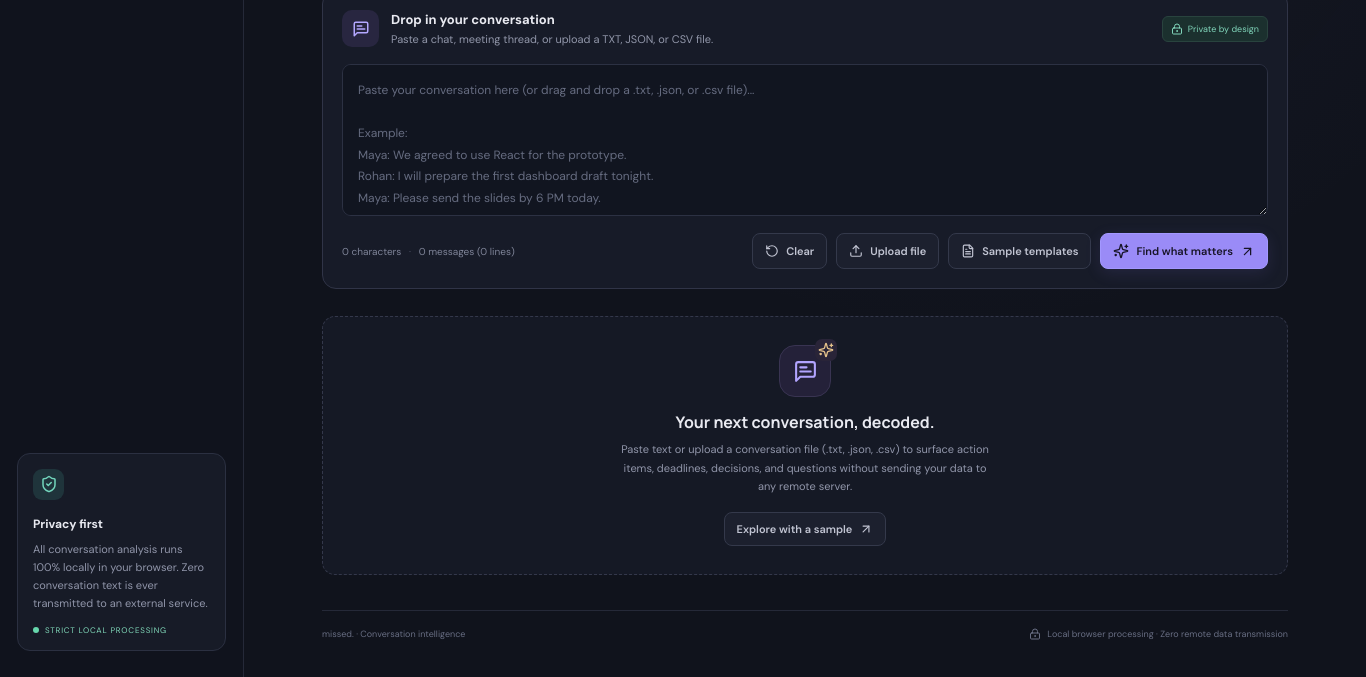
Test: UI State & Input Synchronization Tests › renders sample template and runs analysis with source excerpts
(page scrolled)
# Click "Explore with a sample" in empty prompt
Click the button "Explore with a sample". click: (805, 529)
box: [724, 512, 886, 546]
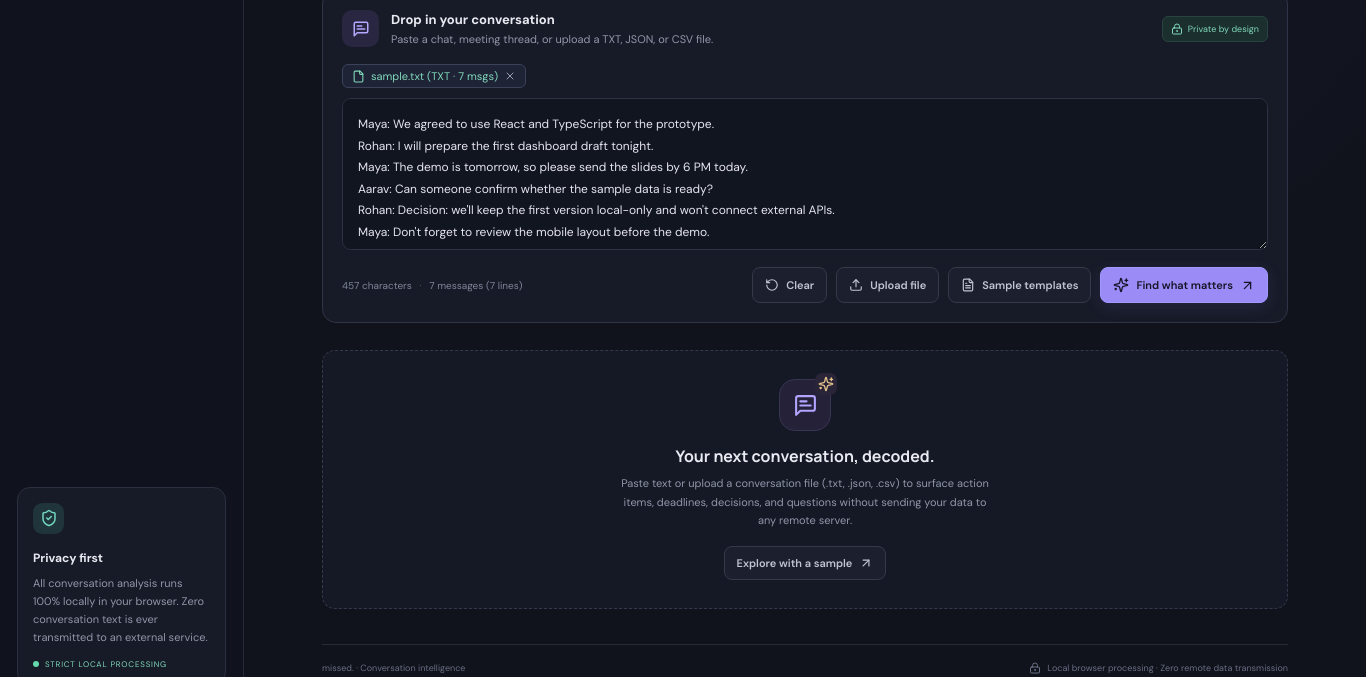
# Click "Find what matters"
Click the button "Find what matters". click: (1184, 285)
box: [1100, 267, 1268, 303]
(page scrolled)
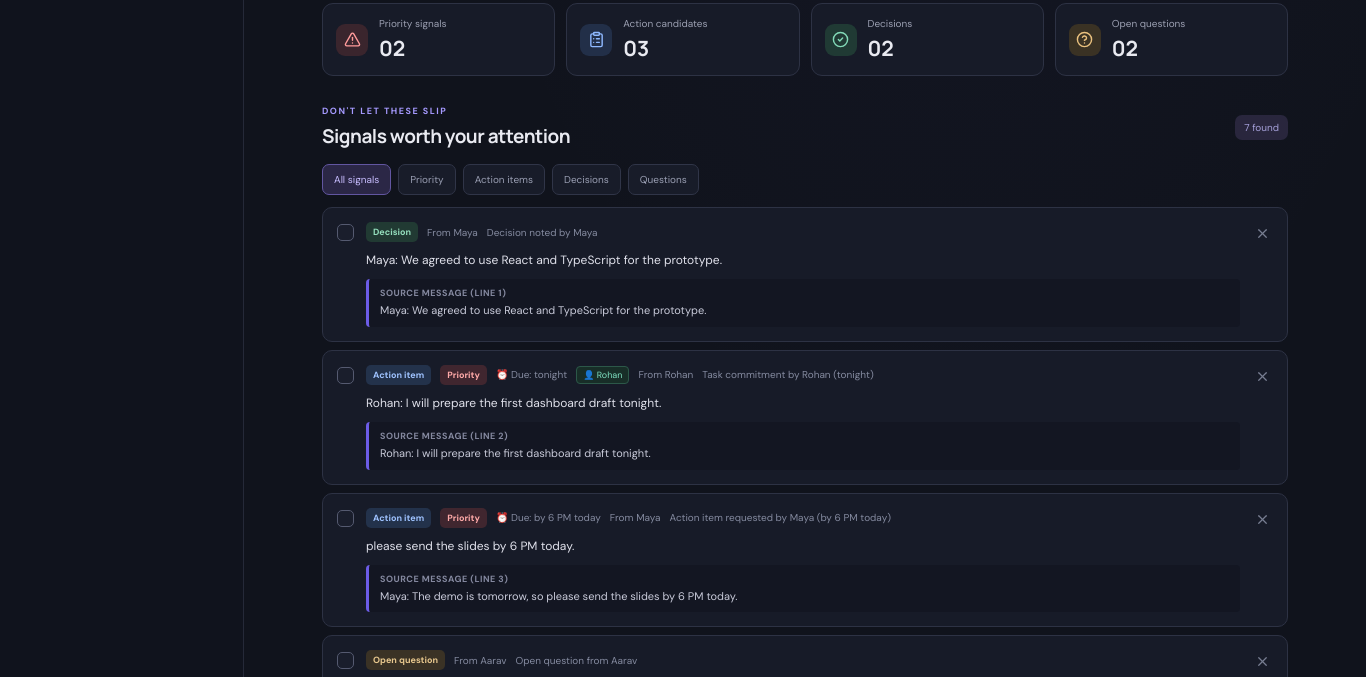
Check: the heading "Signals worth your attention" is shown, box [322, 123, 570, 149]
Check: the text "Source message (Line 1)" is shown, box [380, 287, 506, 299]
